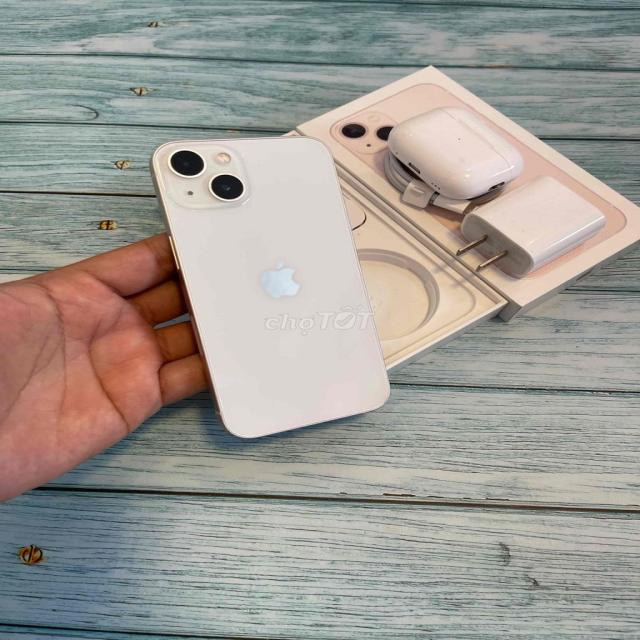gen_12_13: (148, 135, 396, 441)
